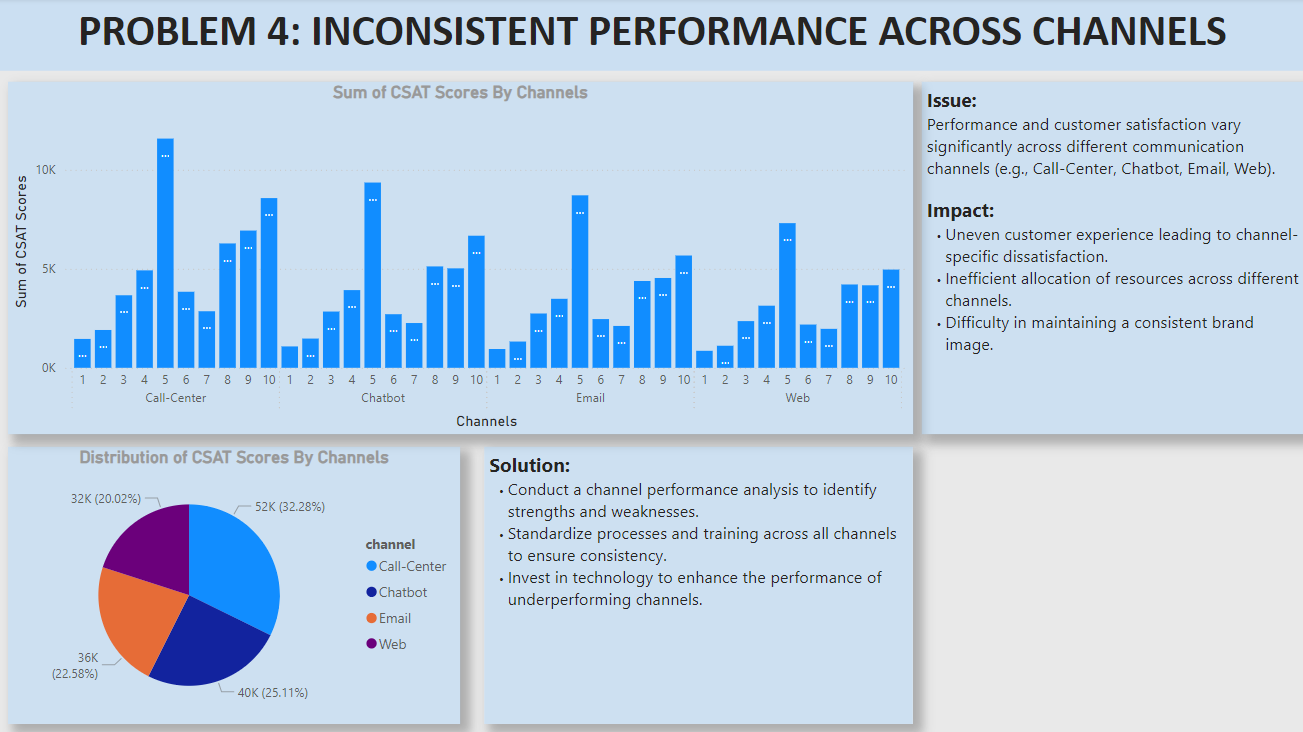

What the dashboard file says about the page in this screenshot:
{"tool":"powerbi","page":{"name":"Problem 4","canvas":[1280,720],"ordinal":4},"visuals":[{"type":"textbox","box":[0,0,1280.3,70.9],"z":0},{"type":"clusteredColumnChart","title":"Sum of CSAT Scores By Channels","fields":{"Category":["Hospitality call center data.channel","Hospitality call center data.csat_score"],"Y":["Sum(Hospitality call center data.csat_score)"]},"box":[9.8,81.9,885.3,344.8],"z":1000},{"type":"pieChart","title":"Distribution of CSAT Scores By Channels","fields":{"Y":["Sum(Hospitality call center data.csat_score)"],"Category":["Hospitality call center data.channel"]},"box":[9.8,439,442.7,271.5],"z":1001},{"type":"textbox","box":[903.7,81.9,376.6,344.8],"z":1002},{"type":"textbox","box":[475.7,439,419.4,271.5],"z":1003}]}

Visuals, with their boxes in screenshot pixels (x1, y1, x2, y2), scaled from the page's 1280x720 canvas onto the 1303x732 screenshot:
textbox: <region>0, 0, 1302, 72</region>
"Sum of CSAT Scores By Channels" clusteredColumnChart: <region>10, 83, 911, 434</region>
"Distribution of CSAT Scores By Channels" pieChart: <region>10, 446, 461, 722</region>
textbox: <region>920, 83, 1302, 434</region>
textbox: <region>484, 446, 911, 722</region>
